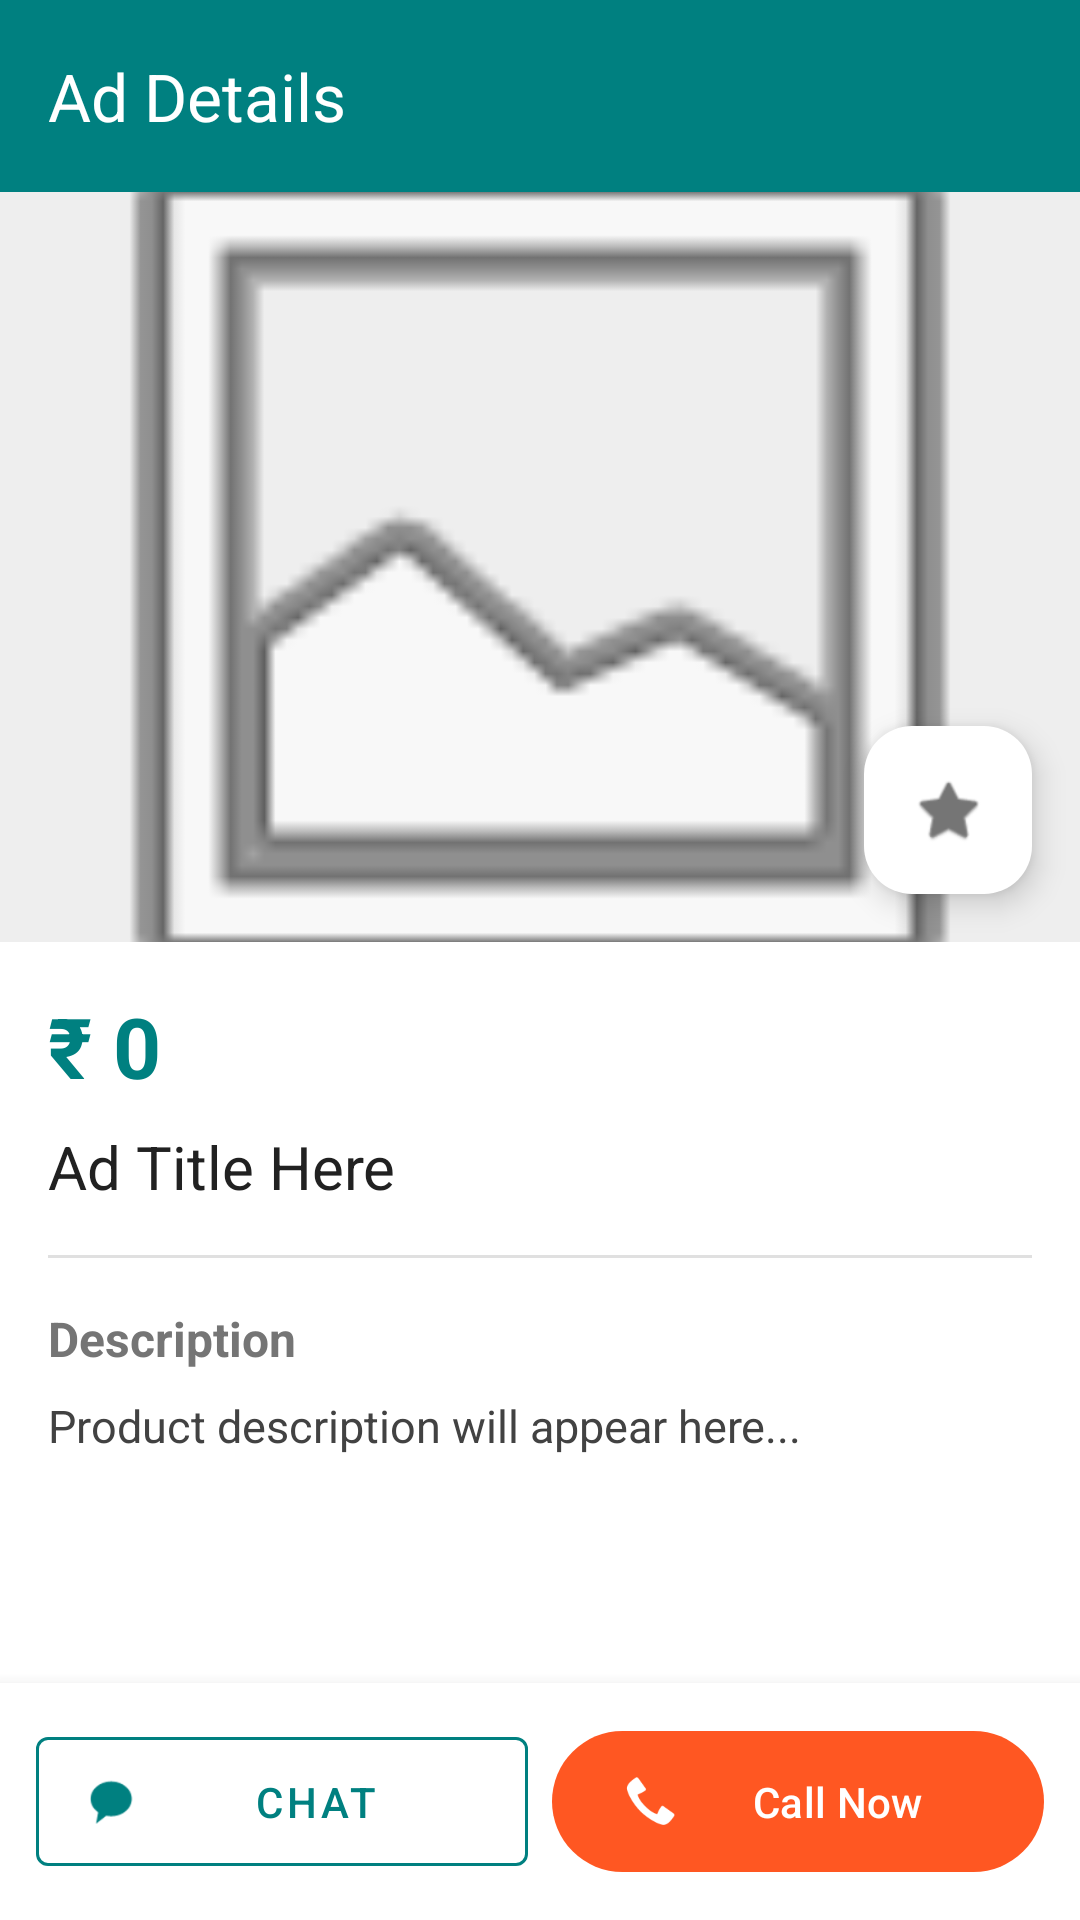

Screen size 1080×1920. Icon name, then its center in pixels as [x,y]:
star off: [948,810]
